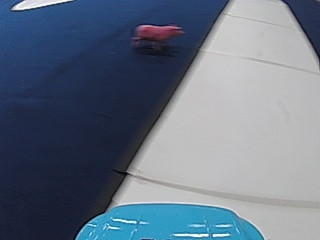pig: (131, 18, 184, 52)
